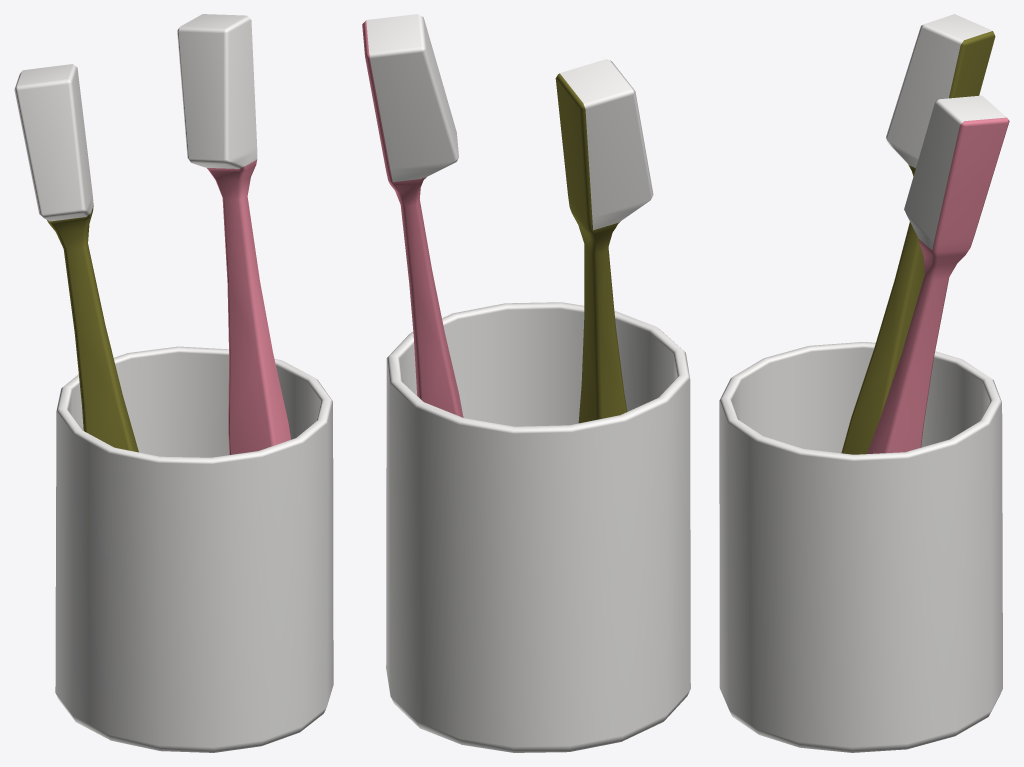
The model's file is Toothbrush_1.glb.
3 views of the same model, side by side, from view 1: azimuth 30°, elevation 25°; view 2: azimuth 150°, elevation 25°; view 3: azimuth 270°, elevation 25° (orthographic). The views are drawn at different scales.
Visible parts, largest first — view 1: Toothbrush_1; view 2: Toothbrush_1; view 3: Toothbrush_1.
Boxes of the visible parts, x1=… form: Toothbrush_1: x1=14, y1=14, x2=333, y2=752; Toothbrush_1: x1=362, y1=14, x2=690, y2=752; Toothbrush_1: x1=719, y1=14, x2=1009, y2=752.
Size of the model in its own units: 0.1202 by 0.2842 by 0.1177.
2 materials, 2 textured.
